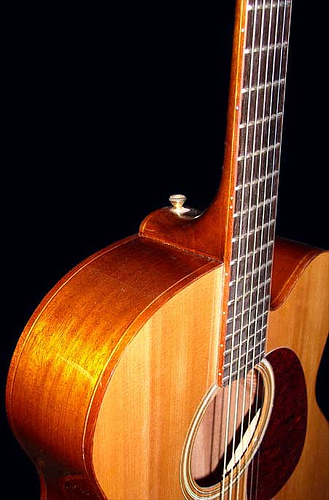guitar: (4, 1, 329, 500)
